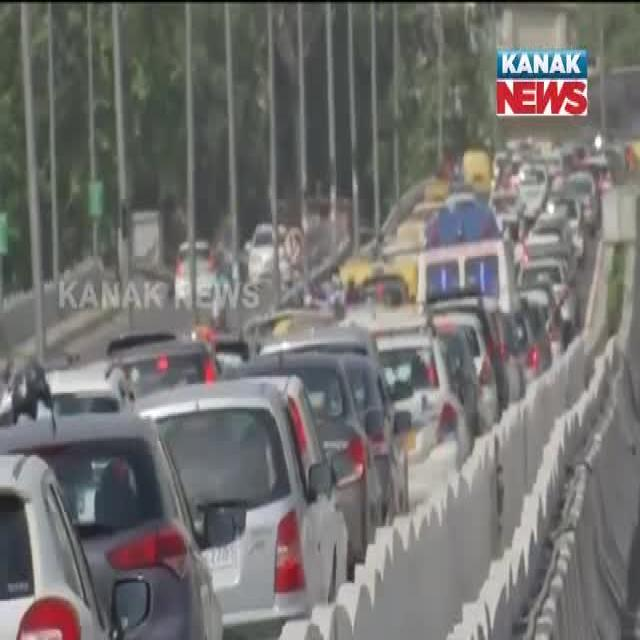ambulance: (417, 200, 506, 290)
